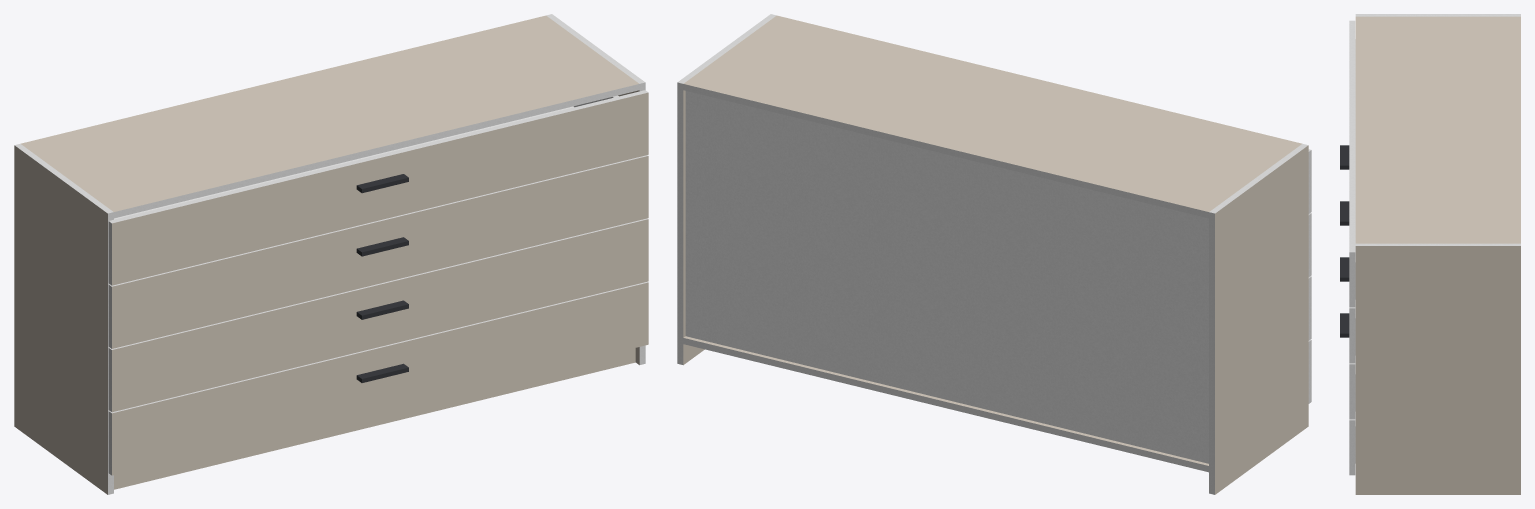
Rendered from CAL-DRS-wide.glb.
3 renders of one model, left to right at view 1: azimuth 30°, elevation 25°; view 2: azimuth 150°, elevation 25°; view 3: azimuth 270°, elevation 25°, orthographic. The views are drawn at different scales.
Parts seen in each view (by area): view 1: top:pbr, d3-front:pbr, d1-front:pbr, d4-front:pbr, d2-front:pbr, side-l:pbr, plinth:pbr, top:sheet:eyJtIjoibWRmIiwic2lkZSI6ImVkZ2UtbG9uZyIsInNlZWQiOj, d4-front:sheet:eyJtIjoibWRmIiwic2lkZSI6ImVkZ2UtbG9uZyIsInNlZ, pull, d2-front:sheet:eyJtIjoibWRmIiwic2lkZSI6ImVkZ2UtbG9uZyIsInNlZ, d3-front:sheet:eyJtIjoibWRmIiwic2lkZSI6ImVkZ2UtbG9uZyIsInNlZ (+2 smaller); view 2: back:sheet:eyJtIjoibWRmIiwic2lkZSI6ImZhY2UiLCJzZWVkIjo0LCJ0a, top:pbr, side-l:pbr, top:sheet:eyJtIjoibWRmIiwic2lkZSI6ImVkZ2UtbG9uZyIsInNlZWQiOj, bottom:sheet:eyJtIjoibWRmIiwic2lkZSI6ImVkZ2UtbG9uZyIsInNlZWQ, side-r:sheet:eyJtIjoibWRmIiwic2lkZSI6ImVkZ2UtbG9uZyIsInNlZWQ, side-l:sheet:eyJtIjoibWRmIiwic2lkZSI6ImVkZ2UtbG9uZyIsInNlZWQ, bottom:pbr, side-r:pbr; view 3: side-r:pbr, top:pbr, d4-front:sheet:eyJtIjoibWRmIiwic2lkZSI6ImVkZ2UtbG9uZyIsInNlZ, pull, side-l:sheet:eyJtIjoibWRmIiwic2lkZSI6ImVkZ2UtZW5kIiwic2VlZCI, side-r:sheet:eyJtIjoibWRmIiwic2lkZSI6ImVkZ2UtZW5kIiwic2VlZCI, d1-front:sheet:eyJtIjoibWRmIiwic2lkZSI6ImVkZ2UtZW5kIiwic2VlZ, d2-front:sheet:eyJtIjoibWRmIiwic2lkZSI6ImVkZ2UtZW5kIiwic2VlZ, d3-front:sheet:eyJtIjoibWRmIiwic2lkZSI6ImVkZ2UtZW5kIiwic2VlZ, d4-front:sheet:eyJtIjoibWRmIiwic2lkZSI6ImVkZ2UtZW5kIiwic2VlZ, d4-box-front:sheet:eyJtIjoibWRmIiwic2lkZSI6ImVkZ2UtbG9uZyIsI.
Part boxes in pixels (left/top/right/bottom): top:pbr: left=21, top=15, right=638, bottom=211; d3-front:pbr: left=112, top=156, right=648, bottom=348; d1-front:pbr: left=112, top=282, right=648, bottom=475; d4-front:pbr: left=112, top=92, right=648, bottom=285; d2-front:pbr: left=112, top=219, right=648, bottom=412; side-l:pbr: left=14, top=145, right=107, bottom=494; plinth:pbr: left=114, top=348, right=635, bottom=489; top:sheet:eyJtIjoibWRmIiwic2lkZSI6ImVkZ2UtbG9uZyIsInNlZWQiOj: left=114, top=84, right=639, bottom=218; d4-front:sheet:eyJtIjoibWRmIiwic2lkZSI6ImVkZ2UtbG9uZyIsInNlZ: left=109, top=90, right=648, bottom=223; pull: left=356, top=174, right=408, bottom=382; d2-front:sheet:eyJtIjoibWRmIiwic2lkZSI6ImVkZ2UtbG9uZyIsInNlZ: left=109, top=218, right=648, bottom=349; d3-front:sheet:eyJtIjoibWRmIiwic2lkZSI6ImVkZ2UtbG9uZyIsInNlZ: left=109, top=155, right=648, bottom=286; back:sheet:eyJtIjoibWRmIiwic2lkZSI6ImZhY2UiLCJzZWVkIjo0LCJ0a: left=685, top=91, right=1208, bottom=463; top:pbr: left=684, top=15, right=1301, bottom=211; side-l:pbr: left=1215, top=145, right=1308, bottom=494; top:sheet:eyJtIjoibWRmIiwic2lkZSI6ImVkZ2UtbG9uZyIsInNlZWQiOj: left=683, top=84, right=1208, bottom=218; bottom:sheet:eyJtIjoibWRmIiwic2lkZSI6ImVkZ2UtbG9uZyIsInNlZWQ: left=683, top=338, right=1208, bottom=472; side-r:sheet:eyJtIjoibWRmIiwic2lkZSI6ImVkZ2UtbG9uZyIsInNlZWQ: left=677, top=82, right=683, bottom=364; side-l:sheet:eyJtIjoibWRmIiwic2lkZSI6ImVkZ2UtbG9uZyIsInNlZWQ: left=1209, top=212, right=1214, bottom=494; bottom:pbr: left=683, top=336, right=1208, bottom=465; side-r:pbr: left=683, top=90, right=704, bottom=364; side-r:pbr: left=1355, top=246, right=1520, bottom=494; top:pbr: left=1355, top=16, right=1520, bottom=243; d4-front:sheet:eyJtIjoibWRmIiwic2lkZSI6ImVkZ2UtbG9uZyIsInNlZ: left=1349, top=20, right=1355, bottom=252; pull: left=1340, top=145, right=1349, bottom=337; side-l:sheet:eyJtIjoibWRmIiwic2lkZSI6ImVkZ2UtZW5kIiwic2VlZCI: left=1355, top=14, right=1520, bottom=16; side-r:sheet:eyJtIjoibWRmIiwic2lkZSI6ImVkZ2UtZW5kIiwic2VlZCI: left=1355, top=243, right=1520, bottom=245; d1-front:sheet:eyJtIjoibWRmIiwic2lkZSI6ImVkZ2UtZW5kIiwic2VlZ: left=1349, top=420, right=1355, bottom=475; d2-front:sheet:eyJtIjoibWRmIiwic2lkZSI6ImVkZ2UtZW5kIiwic2VlZ: left=1349, top=364, right=1355, bottom=419; d3-front:sheet:eyJtIjoibWRmIiwic2lkZSI6ImVkZ2UtZW5kIiwic2VlZ: left=1349, top=308, right=1355, bottom=363; d4-front:sheet:eyJtIjoibWRmIiwic2lkZSI6ImVkZ2UtZW5kIiwic2VlZ: left=1349, top=252, right=1355, bottom=307; d4-box-front:sheet:eyJtIjoibWRmIiwic2lkZSI6ImVkZ2UtbG9uZyIsI: left=1355, top=41, right=1355, bottom=259.
Bounding box in the file's own units: 1.6 × 0.8 × 0.527.
Materials: 91 (81 with a texture image).
